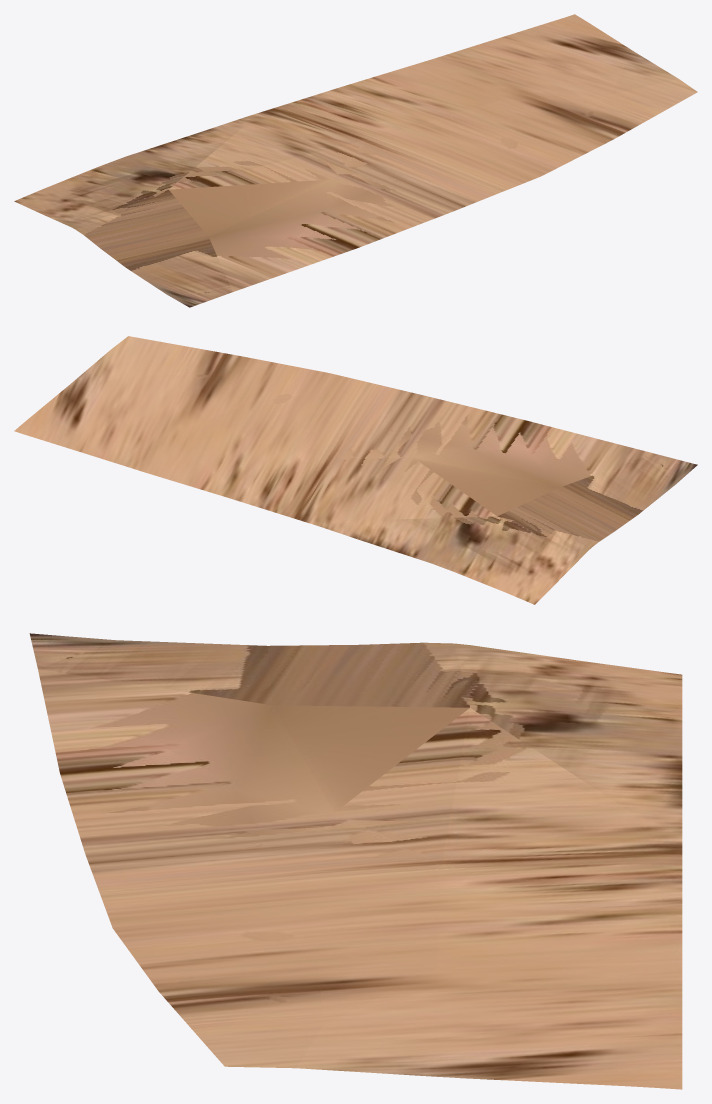
3 renders of one model, top to bottom at view 1: azimuth 30°, elevation 25°; view 2: azimuth 150°, elevation 25°; view 3: azimuth 270°, elevation 25°, orthographic. The views are drawn at different scales.
Size of the model in its own units: 2.09 by 0.2227 by 1.13.
Materials: 1 (1 with a texture image).
